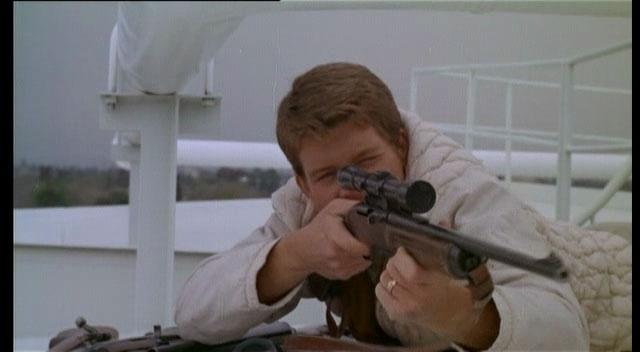gun: (309, 158, 576, 318)
